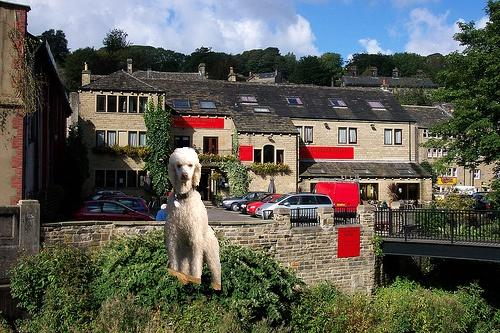tampered: (165, 148, 221, 290)
